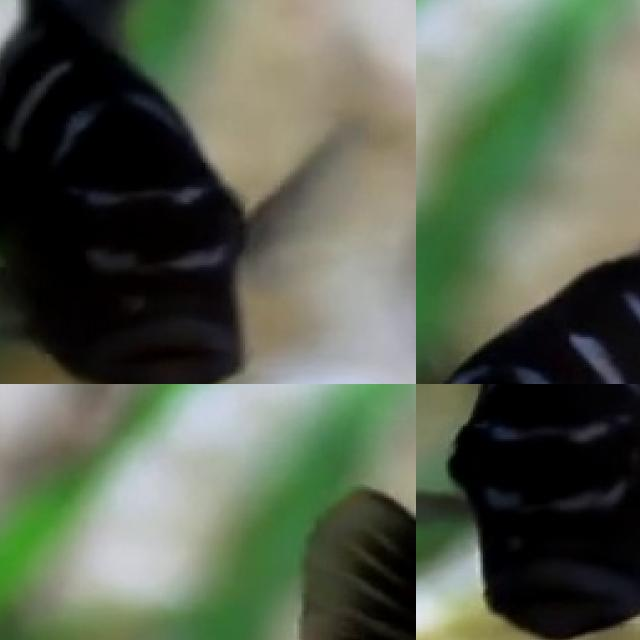fish: (0, 0, 416, 384), (416, 384, 640, 640), (416, 135, 640, 384)
